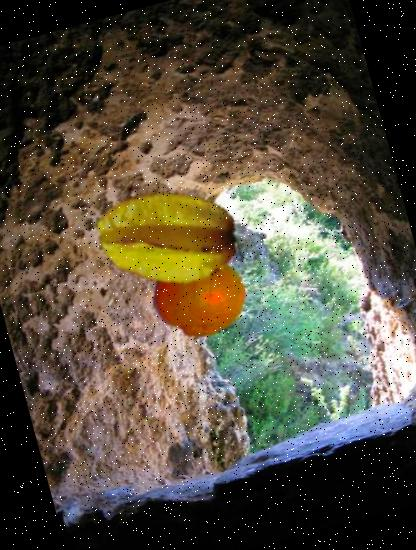Carambula: (81, 150, 255, 324)
Mandarine: (142, 241, 258, 356)
